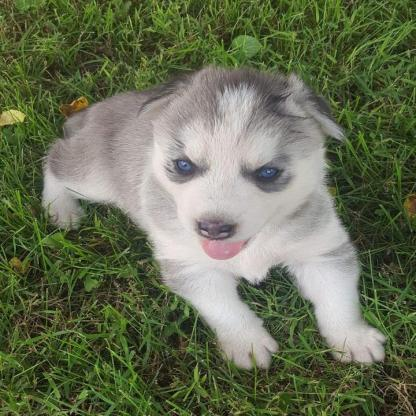dog: (42, 67, 387, 366)
